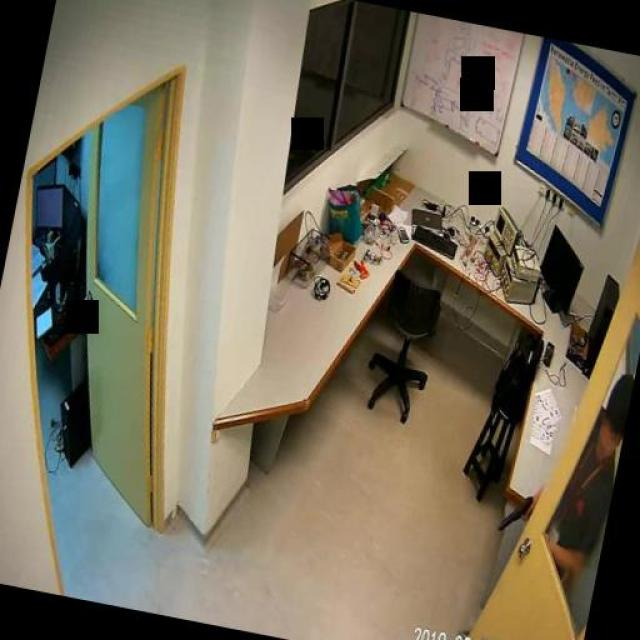gun: (496, 488, 535, 534)
